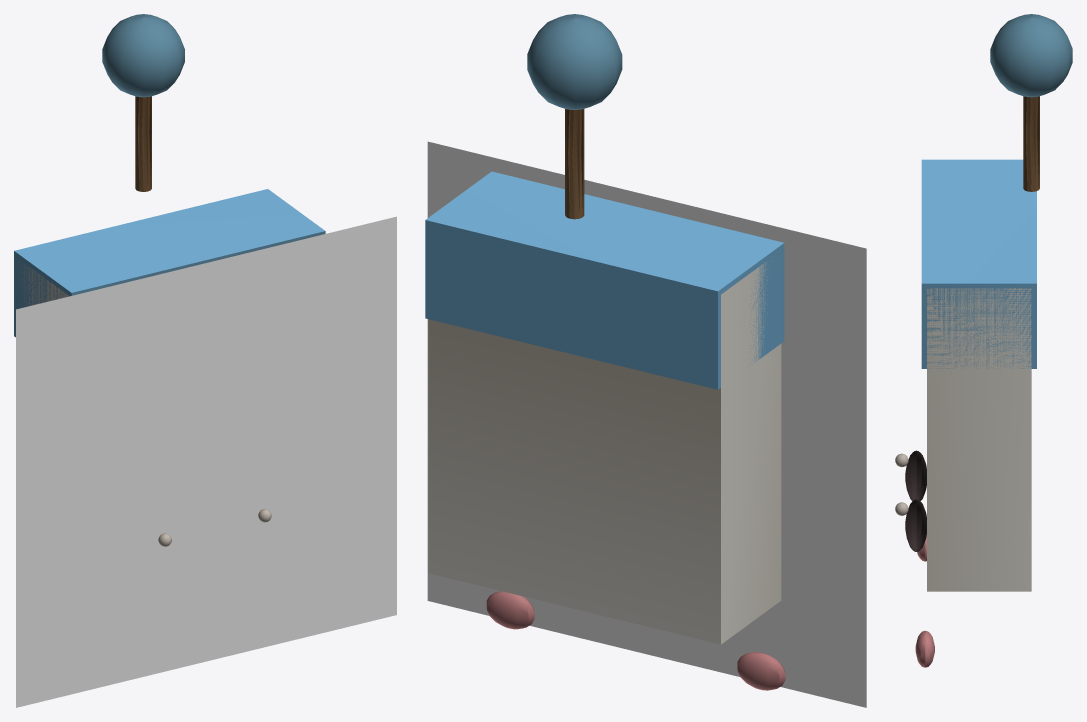
The model's file is pa8dcf30a.glb.
The picture shows the model from 3 angles, left to right: view 1: azimuth 30°, elevation 25°; view 2: azimuth 150°, elevation 25°; view 3: azimuth 270°, elevation 25°; orthographic projection. The views are drawn at different scales.
Parts seen in each view (by area): view 1: pet_pa8dcf30a; view 2: pet_pa8dcf30a; view 3: pet_pa8dcf30a.
Part boxes in pixels (box(x1,y1,x2,y2)): pet_pa8dcf30a: box(14, 14, 396, 707); pet_pa8dcf30a: box(425, 14, 866, 707); pet_pa8dcf30a: box(895, 14, 1072, 667).
Size of the model in its own units: 0.42 by 0.63 by 0.1698.
